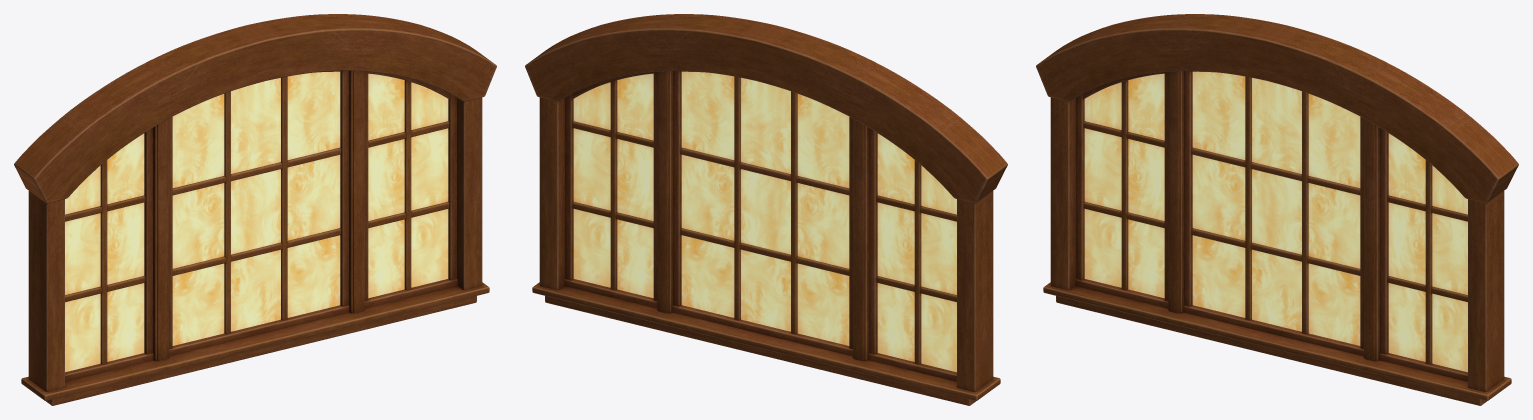
Rendered from window.glb.
3 views of the same model, side by side, from view 1: azimuth 30°, elevation 25°; view 2: azimuth 150°, elevation 25°; view 3: azimuth 330°, elevation 25° (orthographic).
Visible parts, largest first — view 1: Cube.011_0, Cube.017_1; view 2: Cube.011_0, Cube.017_1; view 3: Cube.011_0, Cube.017_1.
Boxes of the visible parts, x1,y1,x2,y2 form: Cube.011_0: [14, 14, 496, 405]; Cube.017_1: [65, 71, 448, 372]; Cube.011_0: [525, 14, 1007, 405]; Cube.017_1: [573, 71, 956, 372]; Cube.011_0: [1036, 14, 1518, 405]; Cube.017_1: [1084, 71, 1467, 372].
Bounding box in the file's own units: 7.88 × 5.13 × 0.7074.
Materials: 2 (2 with a texture image).
